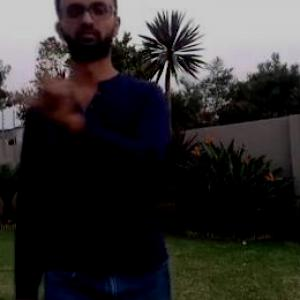land_hand: (13, 45, 86, 128)
